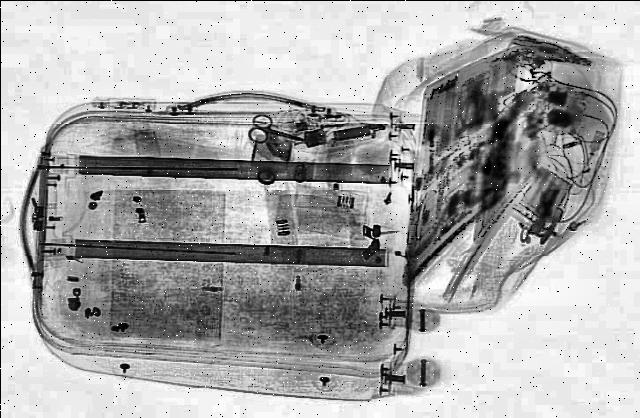Scissors: (236, 113, 314, 153)
